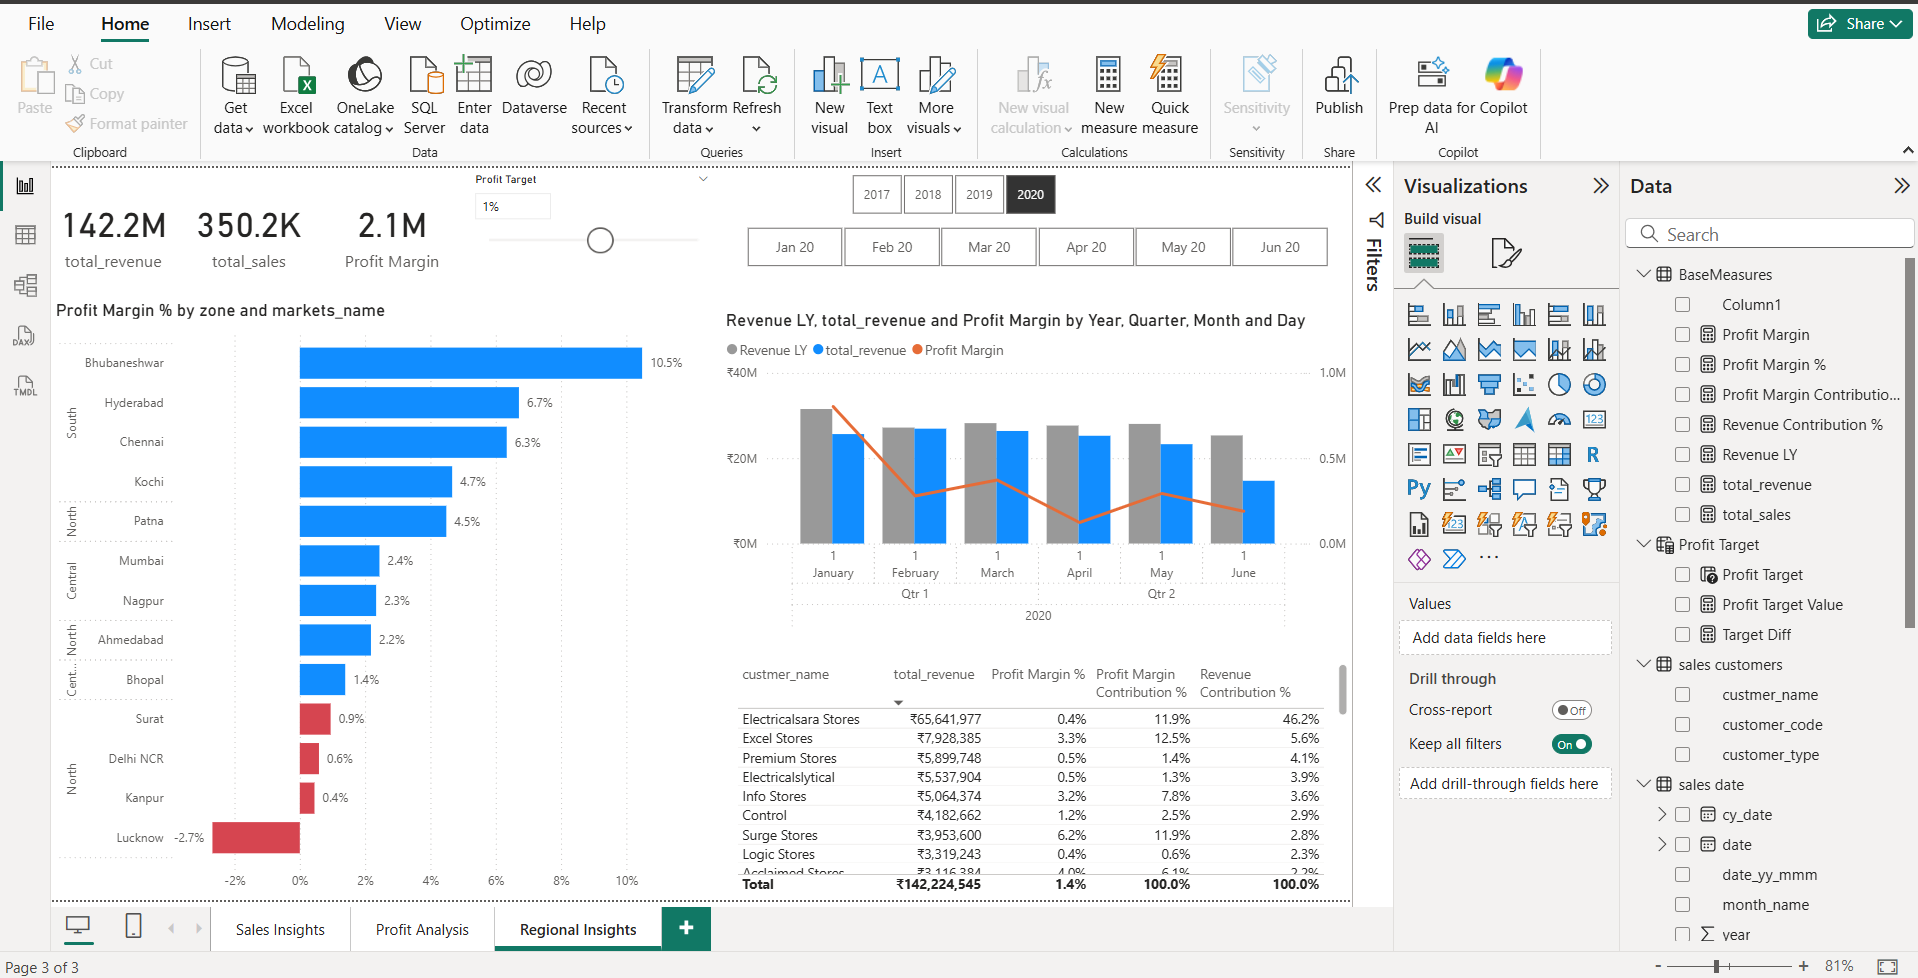

The page's visual inventory and layout, read from the dashboard file:
{"tool":"powerbi","page":{"name":"Regional Insights","canvas":[1280,720],"ordinal":2},"visuals":[{"type":"card","fields":{"Values":["BaseMeasures.total_revenue"]},"box":[0,0,123,143.9],"z":0},{"type":"card","fields":{"Values":["BaseMeasures.total_sales"]},"box":[145.1,0,143.9,143.9],"z":1000},{"type":"barChart","fields":{"Category":["sales markets.zone","sales markets.markets_name"],"Y":["BaseMeasures.Profit Margin %"]},"box":[0,129.1,639.5,590.3],"z":2000},{"type":"slicer","fields":{"Values":["sales date.year"]},"box":[762.5,0,249.7,51.7],"z":3000},{"type":"slicer","fields":{"Values":["sales date.cy_date"]},"box":[659.2,51.7,621.1,51.7],"z":4000},{"type":"tableEx","fields":{"Values":["sales customers.custmer_name","BaseMeasures.total_revenue","BaseMeasures.Profit Margin %","BaseMeasures.Profit Margin Contribution %","BaseMeasures.Revenue Contribution %"]},"box":[669,483.3,611.2,234.9],"z":5000},{"type":"lineClusteredColumnComboChart","fields":{"Category":["sales date.cy_date.Variation.Date Hierarchy.Year","sales date.cy_date.Variation.Date Hierarchy.Quarter","sales date.cy_date.Variation.Date Hierarchy.Month","sales date.cy_date.Variation.Date Hierarchy.Day"],"Y":["BaseMeasures.Revenue LY","BaseMeasures.total_revenue"],"Y2":["BaseMeasures.Profit Margin"]},"box":[659.2,139,621.1,323.4],"z":6000},{"type":"card","fields":{"Values":["BaseMeasures.Profit Margin"]},"box":[281.6,0,137.7,143.9],"z":7000},{"type":"slicer","fields":{"Values":["Profit Target.Profit Target"]},"box":[419.4,0,220.1,103.3],"z":8000}]}

Visuals, with their boxes on the page's 1280x720 design canvas (x1, y1, x2, y2). These are canvas units, not pixel positions in the 1918x978 screenshot, which may show the page scaled, cropped or inside an application window:
card - BaseMeasures.total_revenue: <bbox>0, 0, 123, 144</bbox>
card - BaseMeasures.total_sales: <bbox>145, 0, 289, 144</bbox>
barChart - sales markets.zone x sales markets.markets_name: <bbox>0, 129, 640, 719</bbox>
slicer - sales date.year: <bbox>762, 0, 1012, 52</bbox>
slicer - sales date.cy_date: <bbox>659, 52, 1280, 103</bbox>
tableEx - sales customers.custmer_name x BaseMeasures.total_revenue: <bbox>669, 483, 1280, 718</bbox>
lineClusteredColumnComboChart - sales date.cy_date.Variation.Date Hierarchy.Year x sales date.cy_date.Variation.Date Hierarchy.Quarter: <bbox>659, 139, 1280, 462</bbox>
card - BaseMeasures.Profit Margin: <bbox>282, 0, 419, 144</bbox>
slicer - Profit Target.Profit Target: <bbox>419, 0, 640, 103</bbox>
